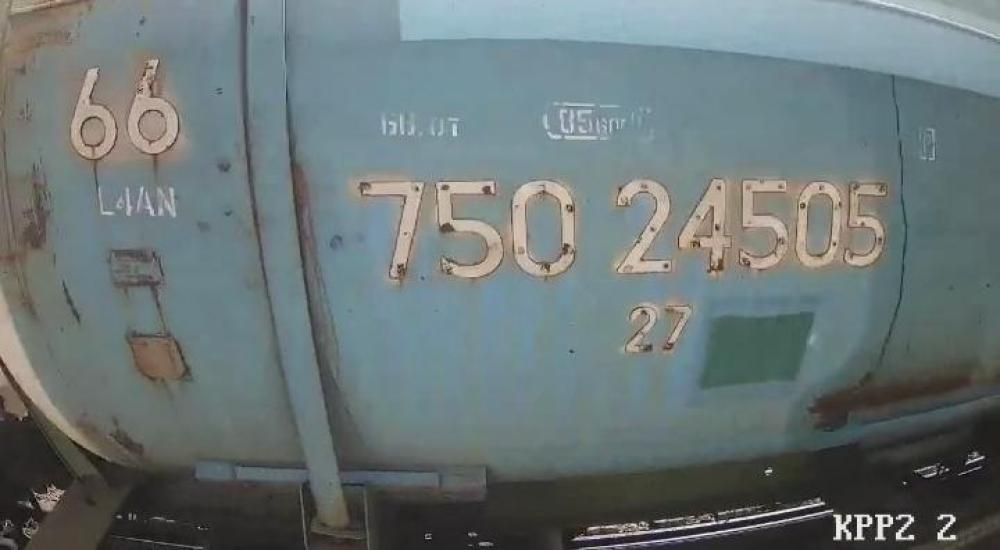Wagon-number: (357, 168, 896, 279)
